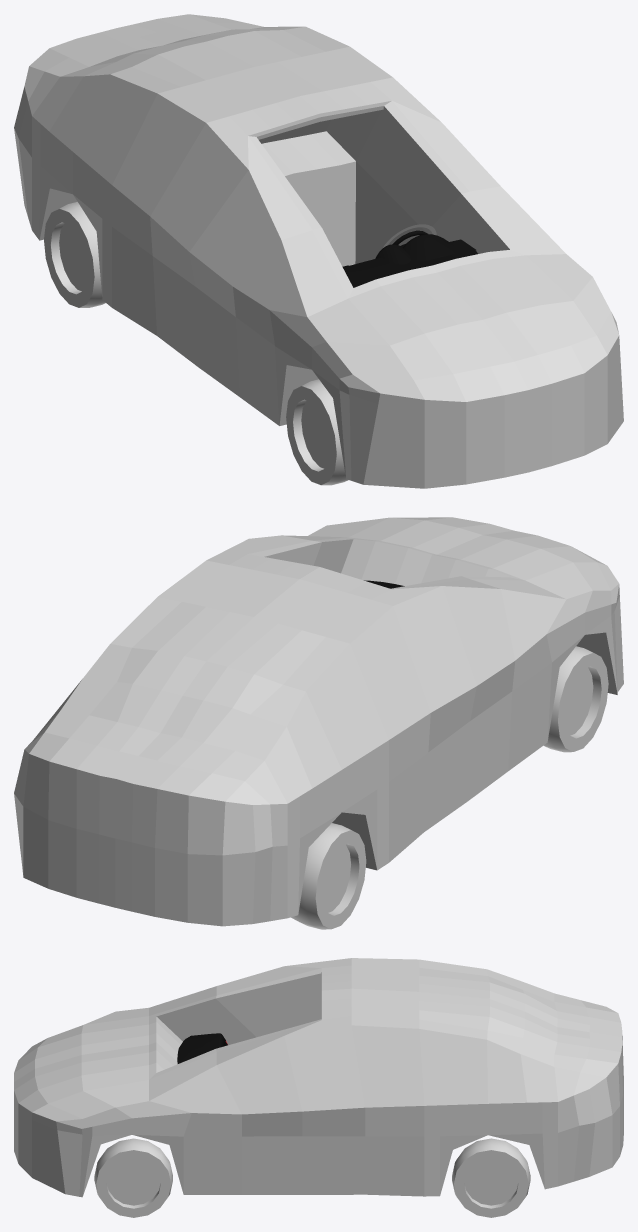
Rendered from car v1.3.fbx.
3 renders of one model, top to bottom at view 1: azimuth 30°, elevation 25°; view 2: azimuth 150°, elevation 25°; view 3: azimuth 270°, elevation 25°, orthographic. The views are drawn at different scales.
Visible parts, largest first — view 1: Car Body, B L wheel, F L wheel, VehicleModel1.001, VehicleModel1.002; view 2: Car Body, B L wheel, F L wheel; view 3: Car Body, B R wheel, F R wheel, VehicleModel1.001.
Boxes of the visible parts, x1=… form: Car Body: x1=14, y1=14, x2=623, y2=488; B L wheel: x1=44, y1=202, x2=105, y2=307; F L wheel: x1=286, y1=379, x2=348, y2=485; VehicleModel1.001: x1=342, y1=239, x2=477, y2=287; VehicleModel1.002: x1=375, y1=234, x2=459, y2=264; Car Body: x1=14, y1=517, x2=623, y2=926; B L wheel: x1=291, y1=823, x2=366, y2=929; F L wheel: x1=543, y1=646, x2=608, y2=752; Car Body: x1=14, y1=958, x2=623, y2=1197; B R wheel: x1=452, y1=1138, x2=530, y2=1217; F R wheel: x1=94, y1=1138, x2=172, y2=1217; VehicleModel1.001: x1=177, y1=1033, x2=227, y2=1063.
Bounding box in the file's own units: 194 × 484 × 159.
